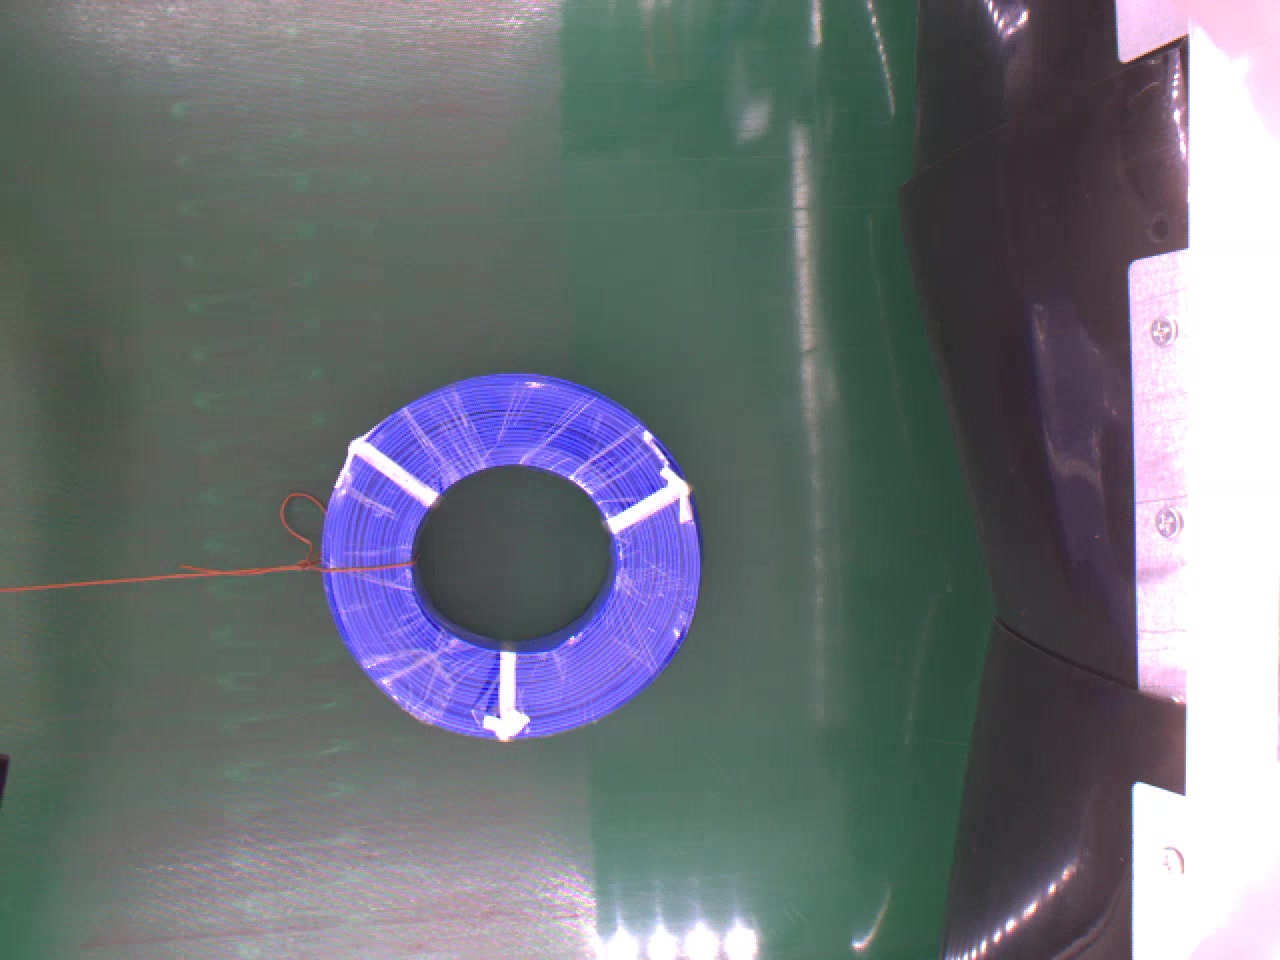blue: (322, 374, 701, 748)
